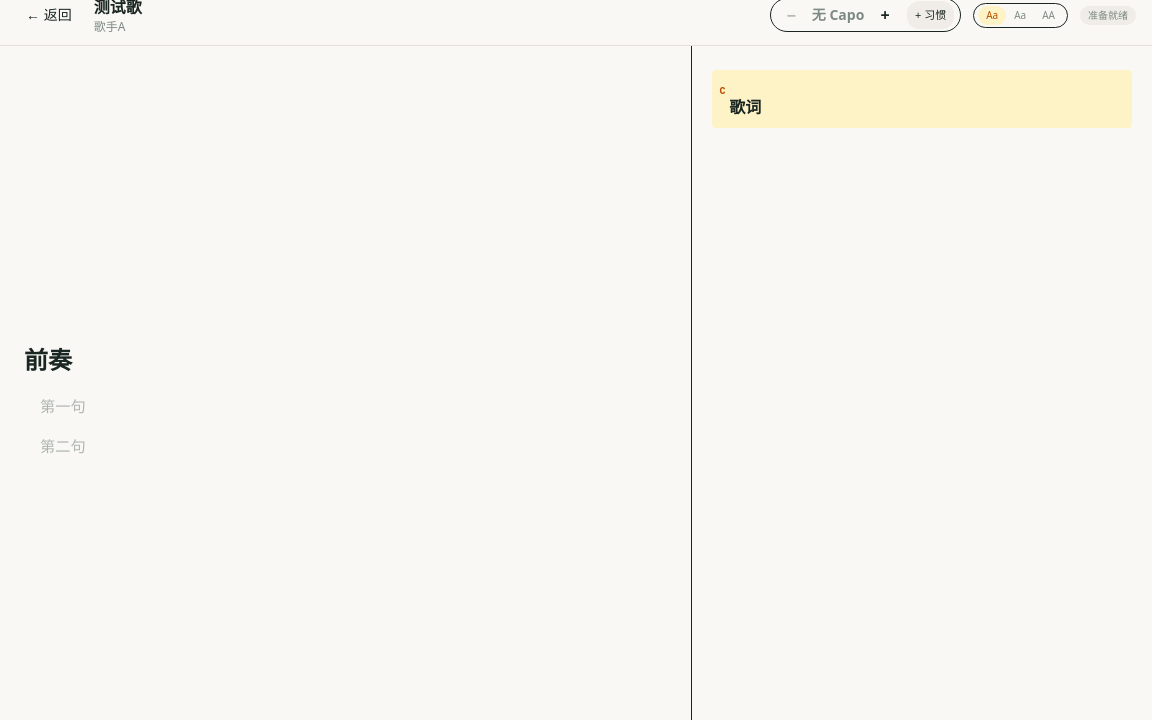
Test: PlayView - R9.4 个人 Capo 库 › 成功保存 → 按钮变「✓ 已加入」
This screenshot has width=1152, height=720.
(page scrolled)
Click the button with test id "play-view-save-capo": (931, 15) top-left (907, 1), bottom-right (954, 29)
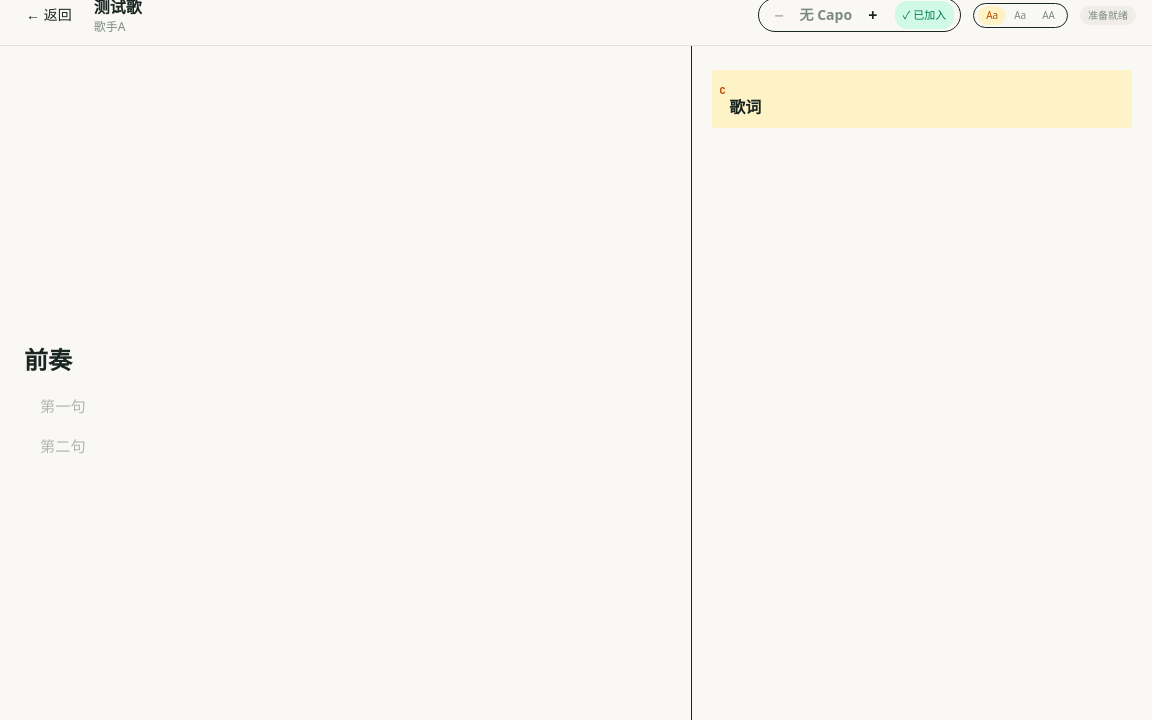
Result: the button with test id "play-view-save-capo" reads "✓ 已加入" at top-left (895, 1), bottom-right (954, 29)
